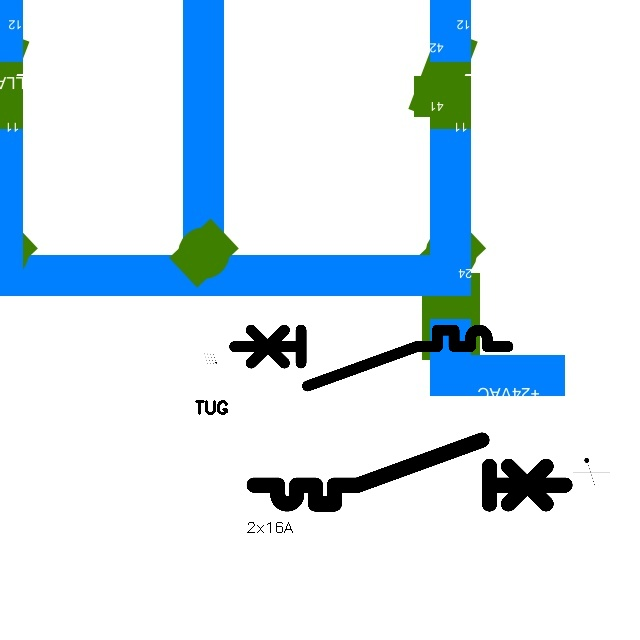interruptor_termomagnetico: (246, 432, 573, 512), (227, 323, 515, 393)
